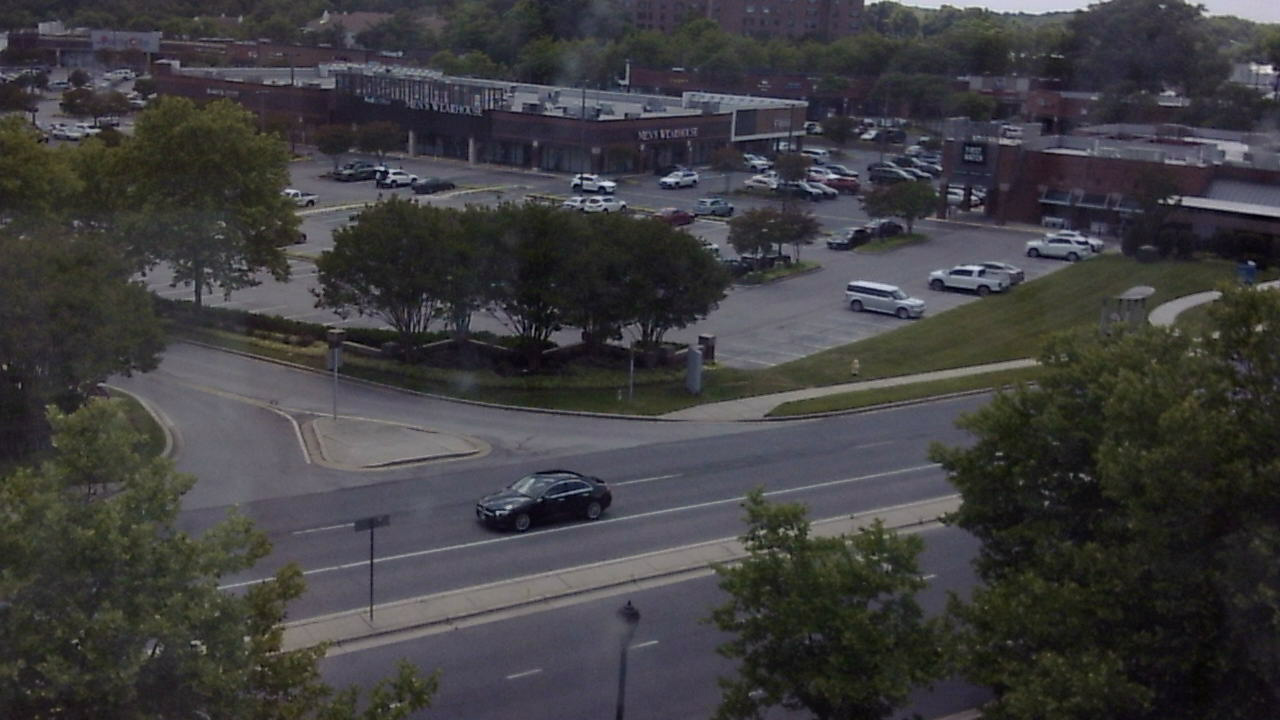Car: (454, 464, 622, 535)
